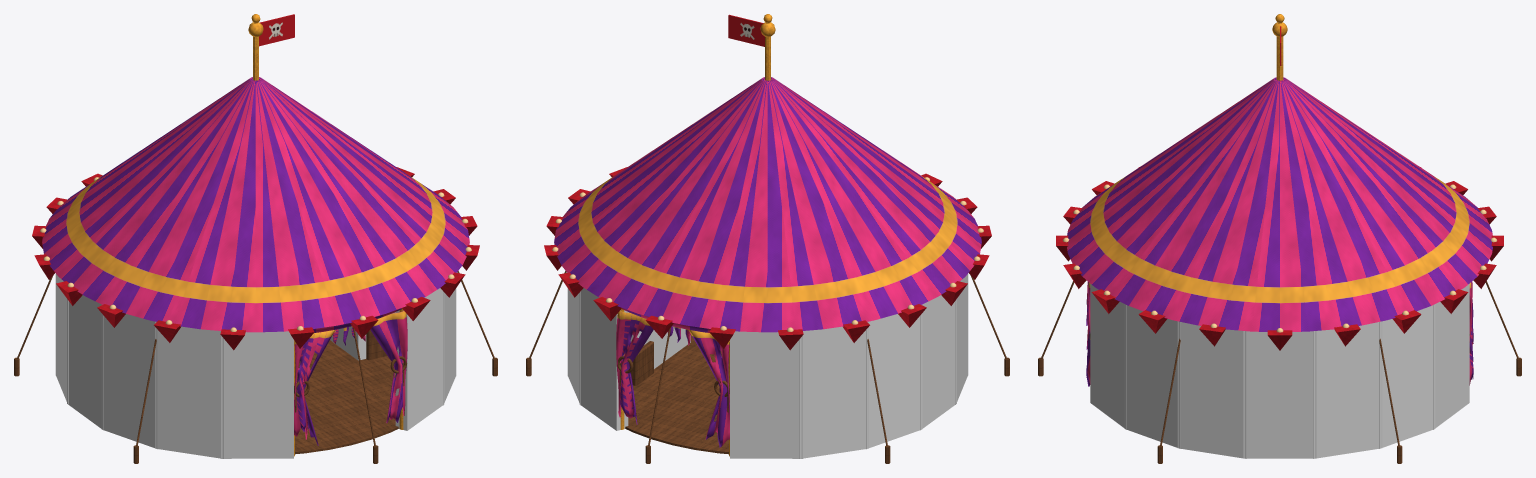
Rendered from MO_Tent.fbx.
The picture shows the model from 3 angles, left to right: view 1: azimuth 30°, elevation 25°; view 2: azimuth 150°, elevation 25°; view 3: azimuth 270°, elevation 25°; orthographic projection.
Visible parts, largest first — view 1: MO_Tent, COL_Wall_13, COL_Wall_12, COL_Wall_11, COL_Wall_00, COL_Wall_10, COL_Wall_09, COL_Wall_01, COL_Crates; view 2: MO_Tent, COL_Wall_07, COL_Wall_08, COL_Wall_09, COL_Wall_06, COL_Wall_10, COL_Wall_11, COL_Wall_05, COL_Crates; view 3: MO_Tent, COL_Wall_03, COL_Wall_02, COL_Wall_04, COL_Wall_01, COL_Wall_05, COL_Wall_00, COL_Wall_06.
Boxes of the visible parts, x1=… form: MO_Tent: x1=14, y1=14, x2=497, y2=463; COL_Wall_13: x1=221, y1=331, x2=293, y2=458; COL_Wall_12: x1=155, y1=321, x2=224, y2=458; COL_Wall_11: x1=101, y1=313, x2=157, y2=449; COL_Wall_00: x1=395, y1=288, x2=444, y2=430; COL_Wall_10: x1=67, y1=295, x2=103, y2=430; COL_Wall_09: x1=56, y1=274, x2=68, y2=404; COL_Wall_01: x1=443, y1=289, x2=455, y2=405; COL_Crates: x1=330, y1=312, x2=395, y2=360; MO_Tent: x1=526, y1=14, x2=1009, y2=463; COL_Wall_07: x1=730, y1=331, x2=802, y2=458; COL_Wall_08: x1=799, y1=321, x2=868, y2=458; COL_Wall_09: x1=866, y1=313, x2=922, y2=449; COL_Wall_06: x1=579, y1=288, x2=628, y2=430; COL_Wall_10: x1=920, y1=295, x2=956, y2=430; COL_Wall_11: x1=955, y1=274, x2=967, y2=404; COL_Wall_05: x1=568, y1=289, x2=580, y2=405; COL_Crates: x1=628, y1=312, x2=690, y2=368; MO_Tent: x1=1038, y1=14, x2=1521, y2=463; COL_Wall_03: x1=1243, y1=331, x2=1316, y2=458; COL_Wall_02: x1=1177, y1=321, x2=1246, y2=458; COL_Wall_04: x1=1313, y1=321, x2=1382, y2=458; COL_Wall_01: x1=1124, y1=304, x2=1180, y2=448; COL_Wall_05: x1=1379, y1=304, x2=1435, y2=448; COL_Wall_00: x1=1090, y1=284, x2=1126, y2=429; COL_Wall_06: x1=1433, y1=284, x2=1469, y2=429.
Size of the model in its own units: 9.74 by 8.66 by 10.52.
